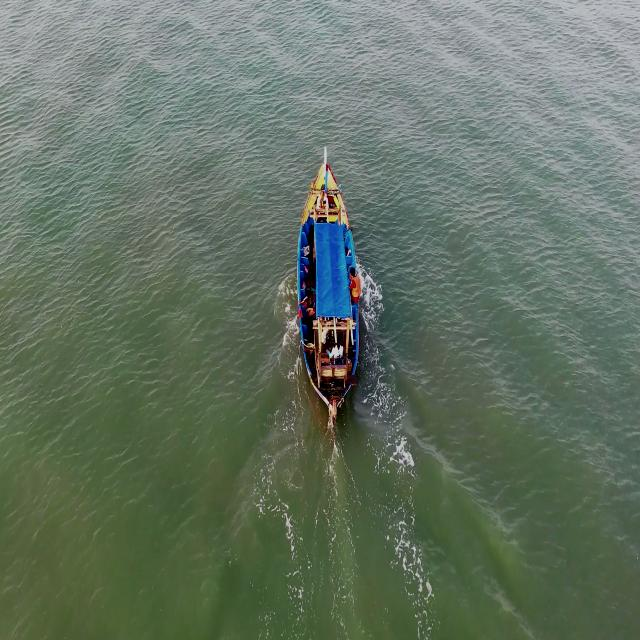ship: (294, 148, 364, 424)
